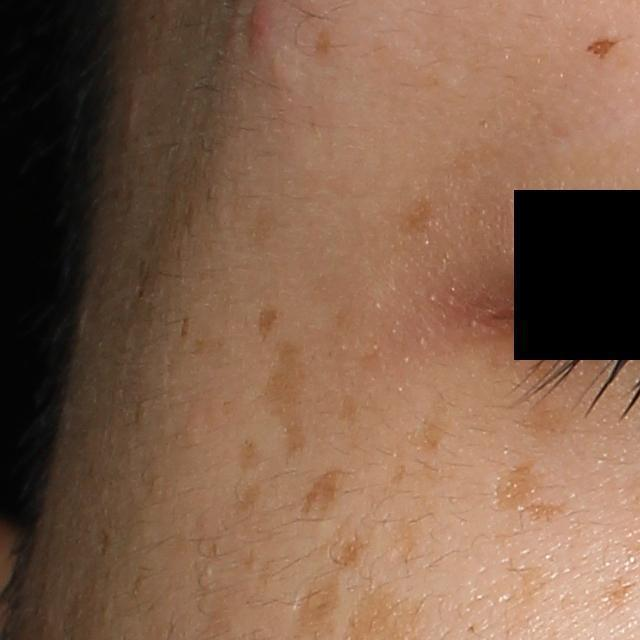melasma: (257, 340, 314, 469), (290, 575, 343, 638), (491, 456, 541, 511), (411, 397, 451, 459), (298, 466, 343, 519), (518, 398, 568, 443), (401, 190, 436, 241), (514, 497, 567, 528), (332, 535, 375, 573), (254, 297, 287, 343), (238, 437, 265, 474), (239, 481, 265, 512)
